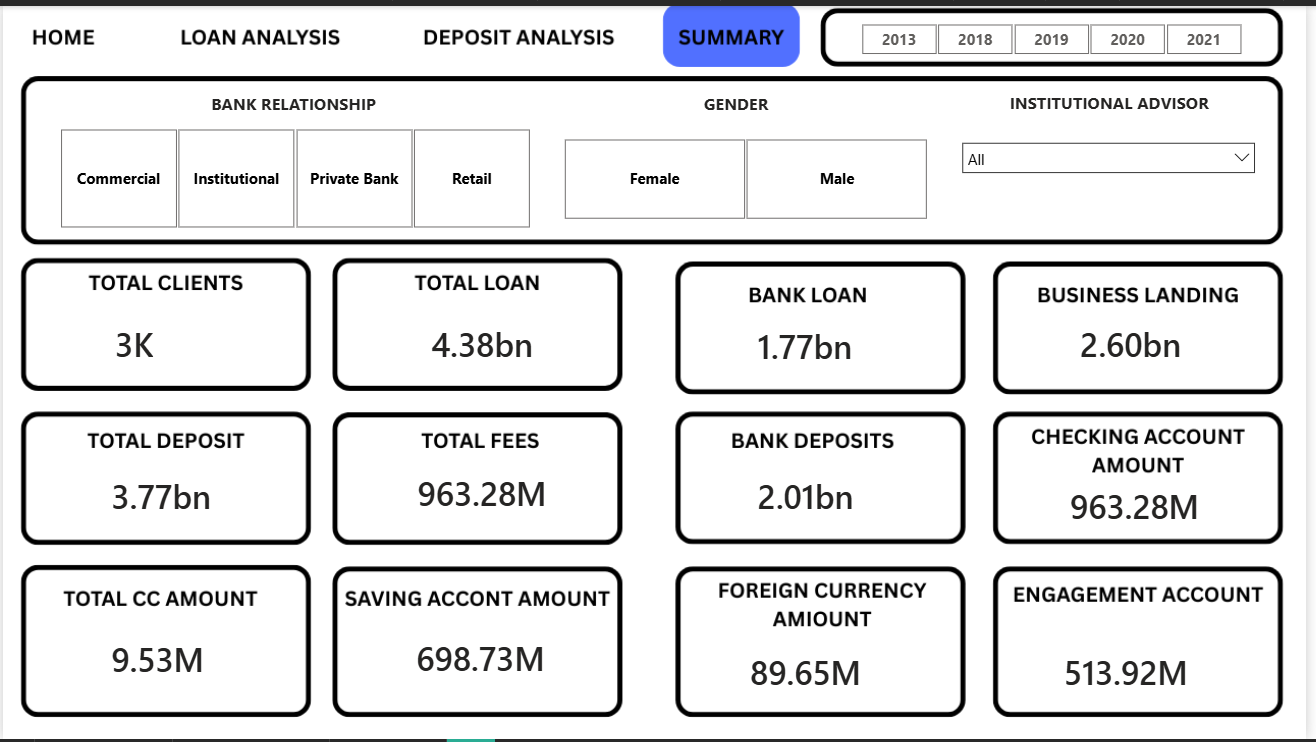

What the dashboard file says about the page in this screenshot:
{"tool":"powerbi","page":{"name":"Summary","canvas":[1280,720],"ordinal":3},"visuals":[{"type":"actionButton","box":[12.3,11,99.4,40.5],"z":0},{"type":"actionButton","box":[391.4,0,217.2,51.5],"z":1000},{"type":"actionButton","box":[144.8,6.1,200,51.5],"z":2000},{"type":"slicer","fields":{"Values":["banking_case customer.Year of Joining"]},"box":[817.2,11,422.1,39.3],"z":3000},{"type":"slicer","fields":{"Values":["banking_case customer.BRId"]},"box":[30.7,114.1,510.4,110.4],"z":4000},{"type":"textbox","box":[157.1,79.8,256.4,34.4],"z":5000},{"type":"slicer","fields":{"Values":["banking_case customer.GenderId"]},"box":[525.1,123.3,406,91.4],"z":6000},{"type":"textbox","box":[656.4,79.8,126.4,34.4],"z":7000},{"type":"slicer","fields":{"Values":["banking_case customer.B(Investment Advisor)"]},"box":[931.3,123.9,308,81],"z":8000},{"type":"textbox","box":[979.1,78.5,213.5,35.6],"z":9000},{"type":"cardVisual","fields":{"Data":["CountNonNull(banking_case customer.Name)"]},"box":[81,296.9,164.4,67.5],"z":10000},{"type":"cardVisual","fields":{"Data":["banking_case customer.Total Loan"]},"box":[391.4,296.9,165.6,67.5],"z":11000},{"type":"cardVisual","fields":{"Data":["banking_case customer.Total Deposit"]},"box":[77.3,442.9,166.9,72.4],"z":12000},{"type":"cardVisual","fields":{"Data":["Sum(banking_case customer.Checking Accounts)"]},"box":[1018.4,455.2,191.4,69.9],"z":13000},{"type":"cardVisual","fields":{"Data":["Sum(banking_case customer.Saving Accounts)"]},"box":[376.7,602.5,196.3,72.4],"z":14000},{"type":"cardVisual","fields":{"Data":["Sum(banking_case customer.Business Lending)"]},"box":[1028.2,296.9,176.7,67.5],"z":15000},{"type":"cardVisual","fields":{"Data":["Sum(banking_case customer.Credit Card Balance)"]},"box":[77.3,606.1,166.9,68.7],"z":16000},{"type":"cardVisual","fields":{"Data":["Sum(banking_case customer.Checking Accounts)"]},"box":[377.9,442.9,193.9,68.7],"z":17000},{"type":"cardVisual","fields":{"Data":["Sum(banking_case customer.Bank Loans)"]},"box":[711.7,300.6,186.5,63.8],"z":18000},{"type":"cardVisual","fields":{"Data":["Sum(banking_case customer.Bank Deposits)"]},"box":[711.7,442.9,186.5,72.4],"z":19000},{"type":"cardVisual","fields":{"Data":["Sum(banking_case customer.Foreign Currency Account)"]},"box":[704.3,618.4,202.5,68.7],"z":20000},{"type":"cardVisual","fields":{"Data":["Sum(banking_case customer.Estimated Income)"]},"box":[1012.9,618,202.3,67.9],"z":21000}]}

Visuals, with their boxes in screenshot pixels (x1, y1, x2, y2), scaled from the page's 1280x720 canvas onto the 1316x742 screenshot:
actionButton: detection(13, 11, 115, 53)
actionButton: detection(402, 0, 626, 53)
actionButton: detection(149, 6, 354, 59)
slicer - banking_case customer.Year of Joining: detection(840, 11, 1274, 52)
slicer - banking_case customer.BRId: detection(32, 118, 556, 231)
textbox: detection(162, 82, 425, 118)
slicer - banking_case customer.GenderId: detection(540, 127, 957, 221)
textbox: detection(675, 82, 805, 118)
slicer - banking_case customer.B(Investment Advisor): detection(957, 128, 1274, 211)
textbox: detection(1007, 81, 1226, 118)
cardVisual - CountNonNull(banking_case customer.Name): detection(83, 306, 252, 376)
cardVisual - banking_case customer.Total Loan: detection(402, 306, 573, 376)
cardVisual - banking_case customer.Total Deposit: detection(79, 456, 251, 531)
cardVisual - Sum(banking_case customer.Checking Accounts): detection(1047, 469, 1244, 541)
cardVisual - Sum(banking_case customer.Saving Accounts): detection(387, 621, 589, 696)
cardVisual - Sum(banking_case customer.Business Lending): detection(1057, 306, 1239, 376)
cardVisual - Sum(banking_case customer.Credit Card Balance): detection(79, 625, 251, 695)
cardVisual - Sum(banking_case customer.Checking Accounts): detection(389, 456, 588, 527)
cardVisual - Sum(banking_case customer.Bank Loans): detection(732, 310, 923, 376)
cardVisual - Sum(banking_case customer.Bank Deposits): detection(732, 456, 923, 531)
cardVisual - Sum(banking_case customer.Foreign Currency Account): detection(724, 637, 932, 708)
cardVisual - Sum(banking_case customer.Estimated Income): detection(1041, 637, 1249, 707)
